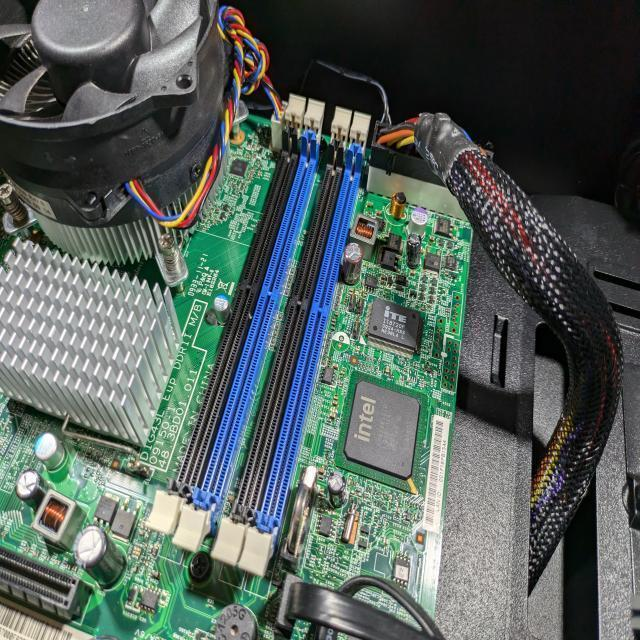CPU_Fan: (0, 0, 232, 265)
Mainboard: (0, 107, 472, 640)
